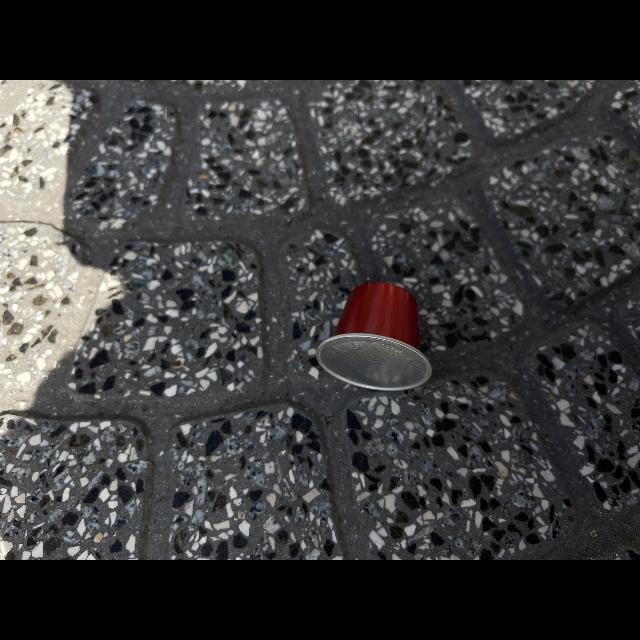intact_capsule: (304, 266, 454, 402)
